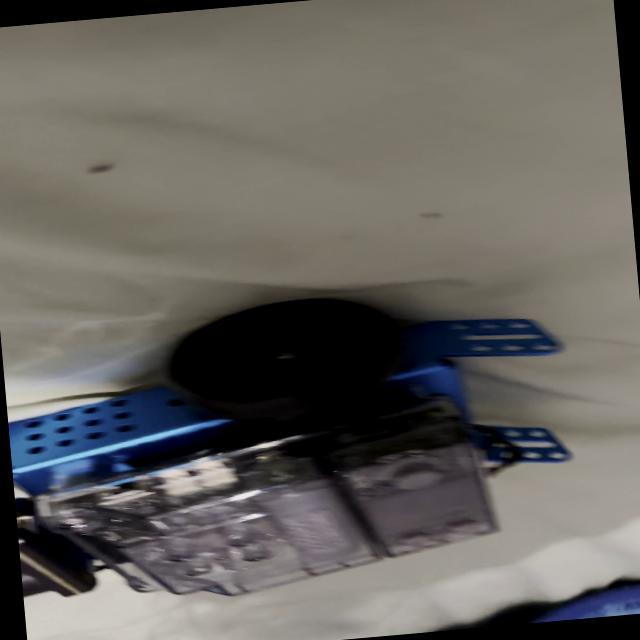mbot-detection: (0, 271, 602, 636)
